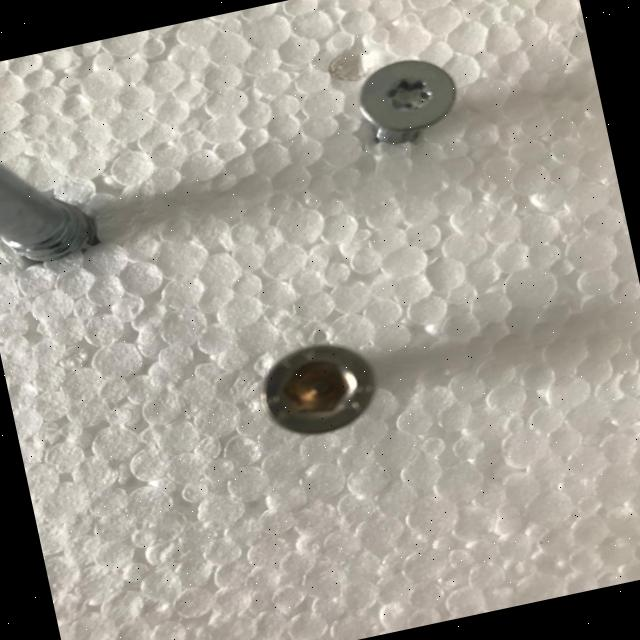Hex Socket Allen: (252, 332, 386, 444)
Torx: (350, 49, 464, 140)
